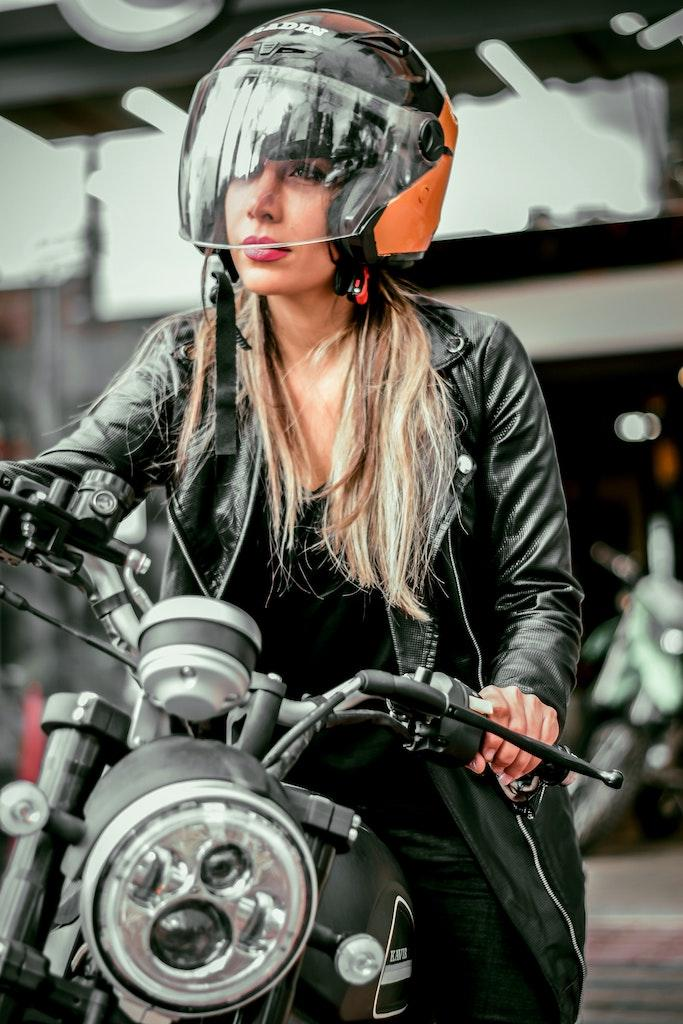helmet: (175, 4, 460, 310)
